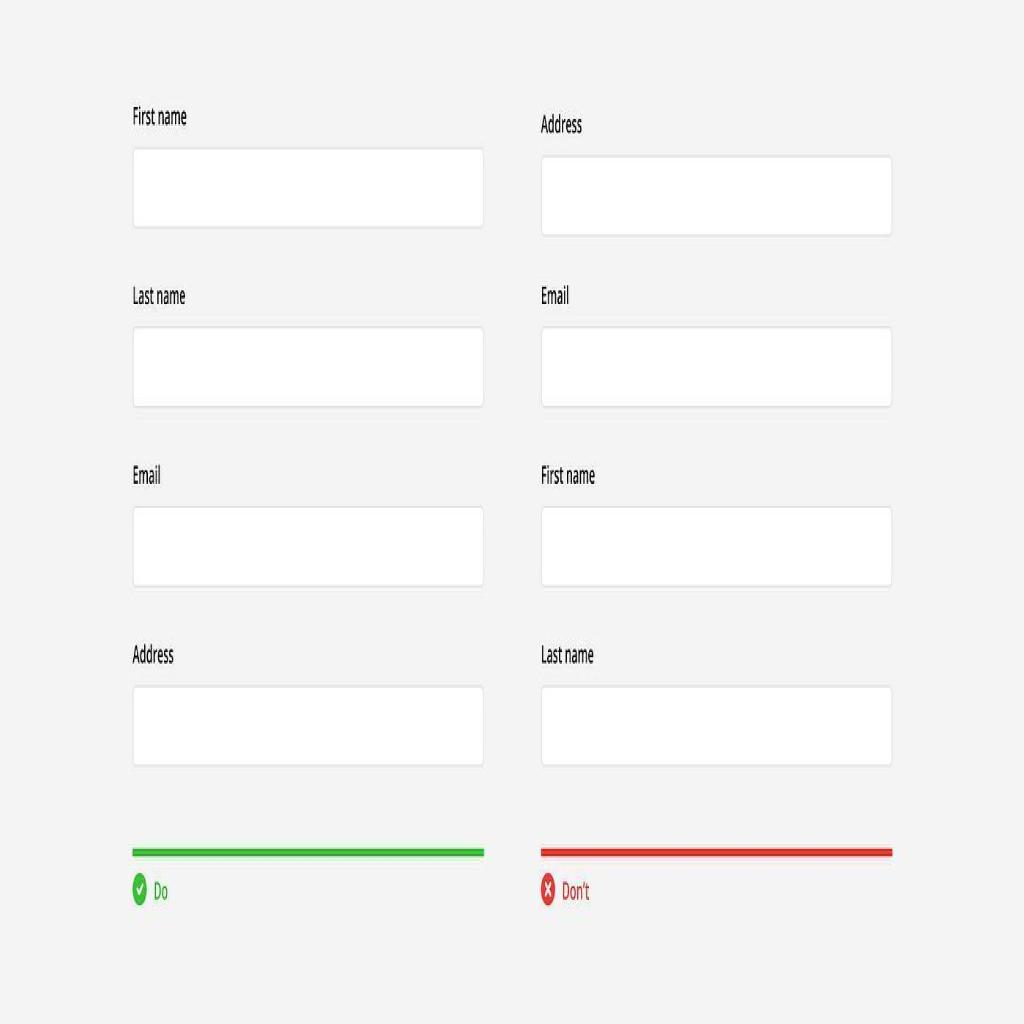input: (131, 322, 486, 412), (130, 144, 486, 231), (132, 503, 486, 589), (132, 683, 485, 769), (541, 153, 893, 239), (539, 324, 893, 408), (541, 504, 893, 588), (540, 683, 894, 766)
label: (132, 280, 186, 311), (541, 640, 596, 669), (130, 104, 189, 129), (541, 462, 596, 487), (132, 640, 176, 666), (540, 110, 584, 136), (132, 460, 162, 486), (540, 282, 570, 306)
